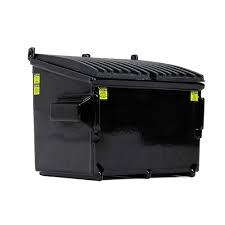Dumpster: (26, 47, 208, 185)
